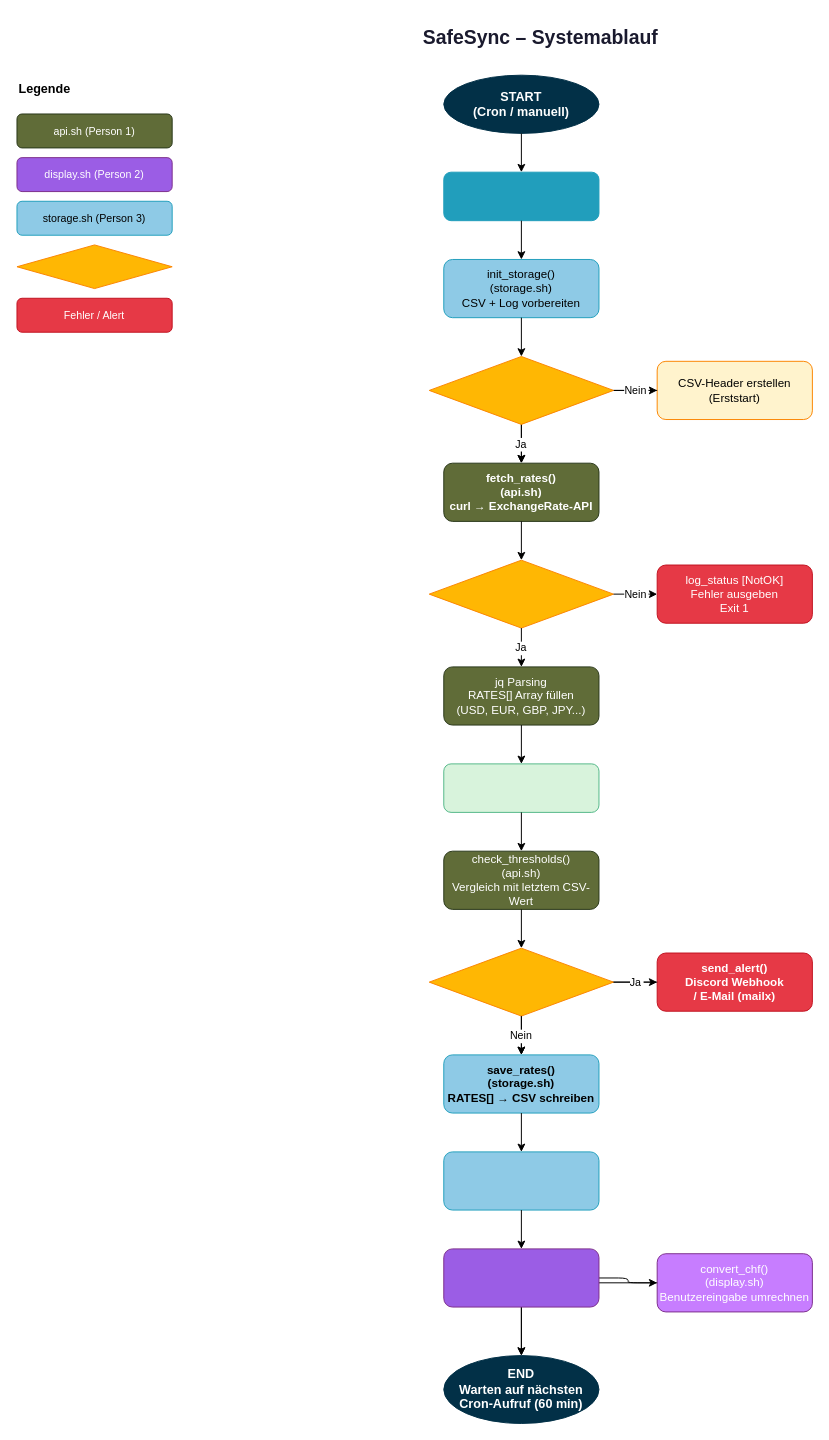
The diagram is 829 pixels wide and 1440 high, and some of its shapes have lost their labels. The shapes that lost their labels are listed below. From the top down, each one's box as (x1, y1, x2, y2) in pixels, then its label:
(443, 171, 599, 221): main.sh Module laden (source)
(16, 244, 172, 289): Entscheidung
(428, 356, 614, 424): kurse_history.csv existiert?
(428, 559, 614, 628): API-Antwort erfolgreich?
(443, 763, 599, 812): log_status [OK] Kurse geladen
(428, 947, 614, 1016): Änderung ≥ 1%?
(443, 1151, 599, 1210): create_backup() (storage.sh) CSV → backups/
(443, 1248, 599, 1307): display_dashboard() (display.sh) ASCII-Tabelle + Farben
